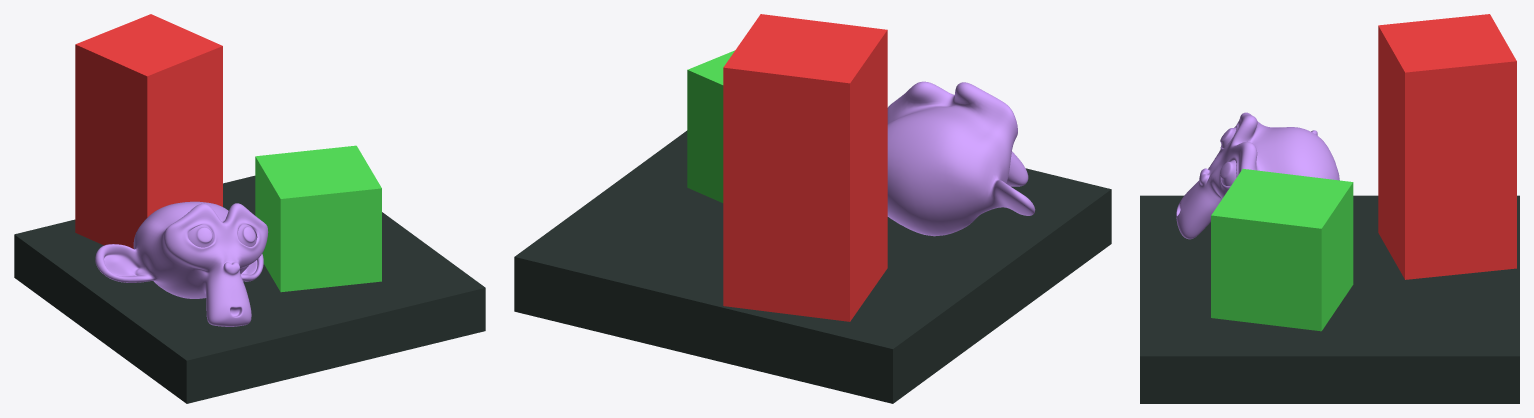
The model's file is platform-no-scale.gltf.
The picture shows the model from 3 angles, left to right: view 1: azimuth 30°, elevation 25°; view 2: azimuth 150°, elevation 25°; view 3: azimuth 270°, elevation 25°; orthographic projection. The views are drawn at different scales.
Parts seen in each view (by area): view 1: Cube, Cube.002, Cube.001, Suzanne; view 2: Cube, Cube.002, Suzanne, Cube.001; view 3: Cube, Cube.002, Cube.001, Suzanne.
Boxes of the visible parts, x1,y1,x2,y2 form: Cube: (14,175,485,403); Cube.002: (75,14,222,248); Cube.001: (255,145,381,292); Suzanne: (95,201,268,326); Cube: (514,130,1111,403); Cube.002: (723,14,887,321); Suzanne: (887,81,1035,236); Cube.001: (687,50,734,202); Cube: (1140,195,1519,403); Cube.002: (1378,14,1516,279); Cube.001: (1211,169,1353,331); Suzanne: (1176,112,1339,239).
Size of the model in its own units: 4.88 by 3.45 by 4.66.
